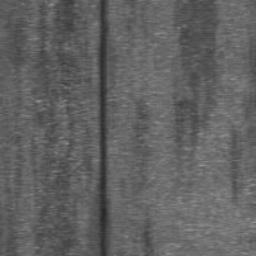Scratches: (99, 0, 110, 256)
